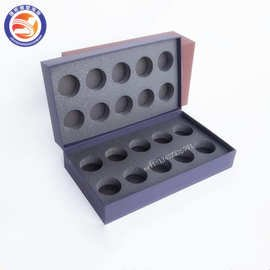5/可回收垃圾/泡沫: (41, 34, 236, 225), (62, 32, 195, 106)
